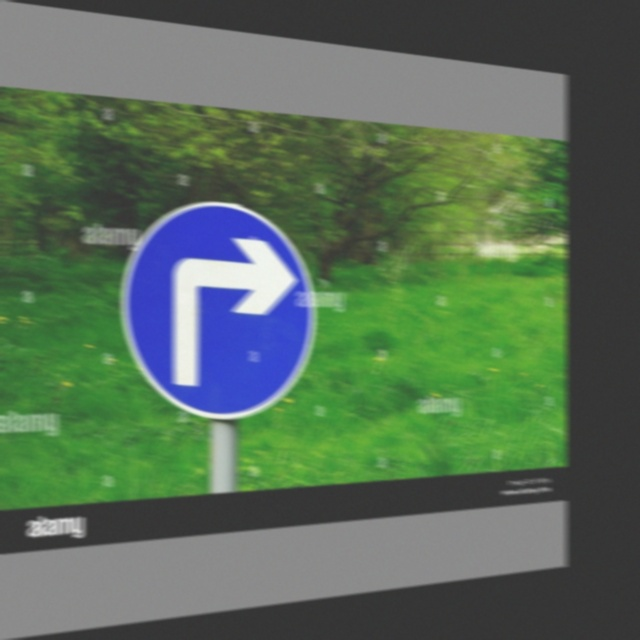Compulsory_Turn_Right_Ahead: (120, 193, 317, 425)
